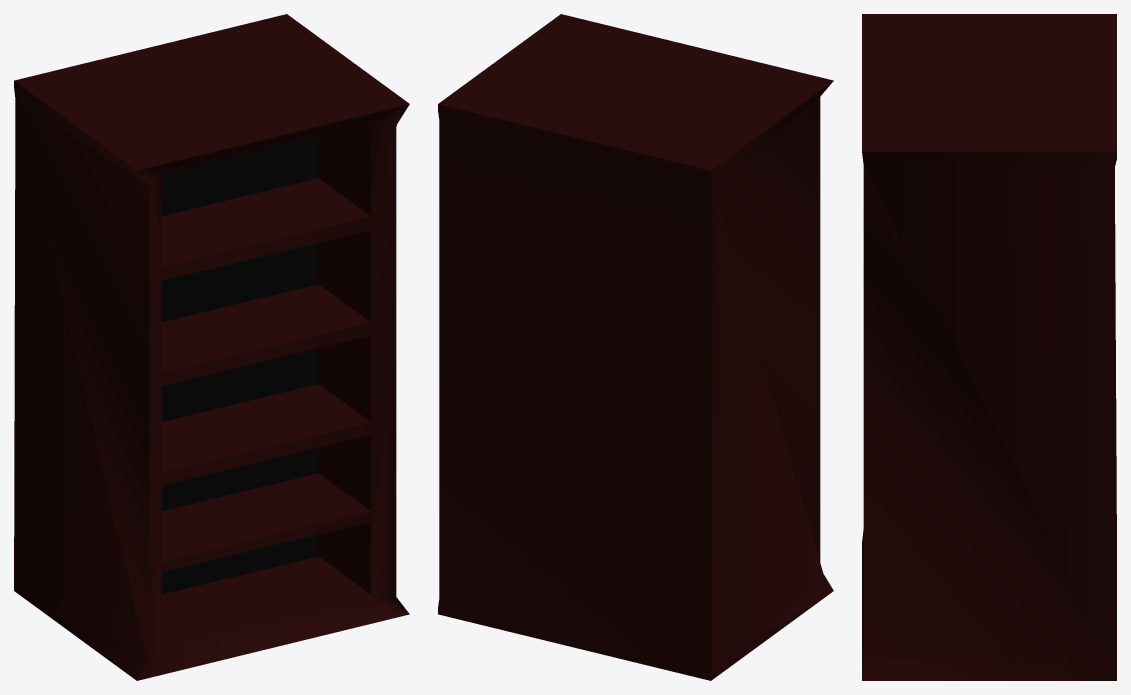
The model's file is bookshelf.FBX.
3 views of the same model, side by side, from view 1: azimuth 30°, elevation 25°; view 2: azimuth 150°, elevation 25°; view 3: azimuth 270°, elevation 25° (orthographic). The views are drawn at different scales.
Visible parts, largest first — view 1: Box001; view 2: Box001; view 3: Box001.
Part boxes in pixels (x1=…): Box001: x1=14, y1=14, x2=409, y2=680; Box001: x1=438, y1=14, x2=833, y2=680; Box001: x1=862, y1=14, x2=1116, y2=680.
Size of the model in its own units: 39.18 by 70 by 30.58.
